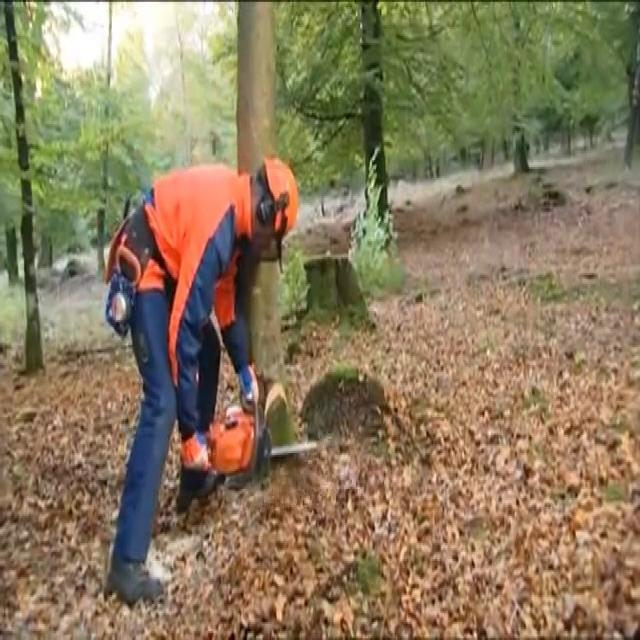Chainsaw: (163, 369, 329, 492)
